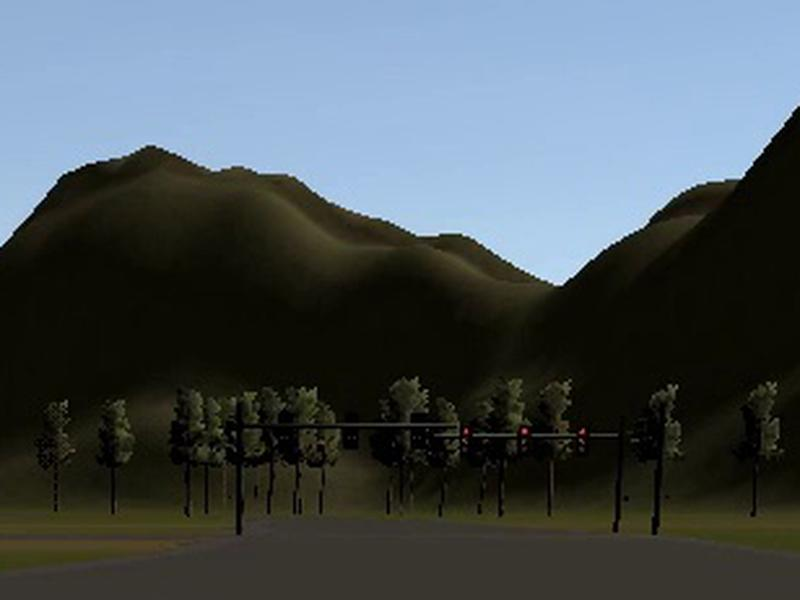Red: (574, 423, 589, 454), (515, 426, 530, 457), (458, 424, 472, 455)
